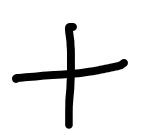plus: (10, 23, 127, 129)
